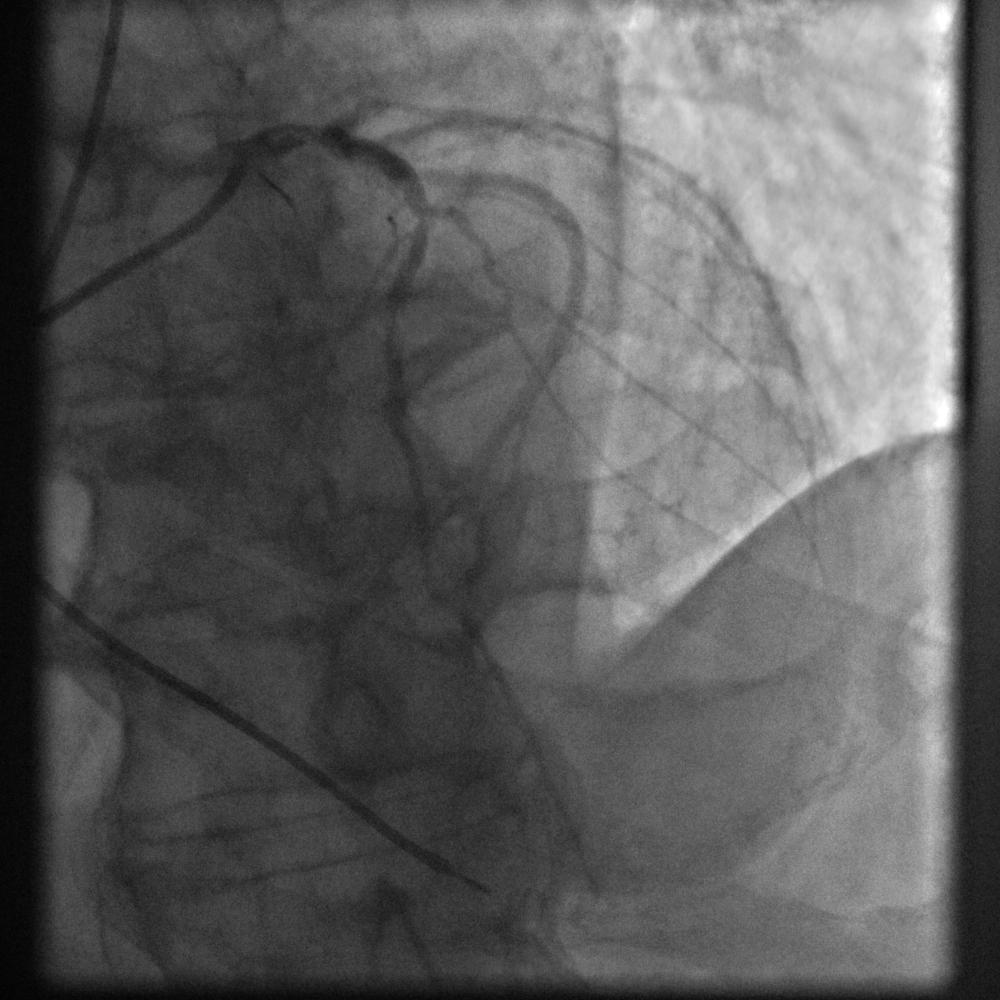Stenosis: (396, 191, 449, 242)
